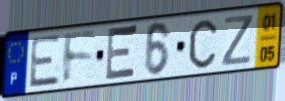6: (142, 20, 174, 78)
C: (187, 18, 219, 71)
E: (103, 23, 140, 84), (27, 33, 63, 90)
F: (62, 29, 98, 88)
Z: (220, 12, 256, 68)
